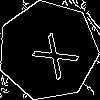X: (23, 26, 80, 81)
